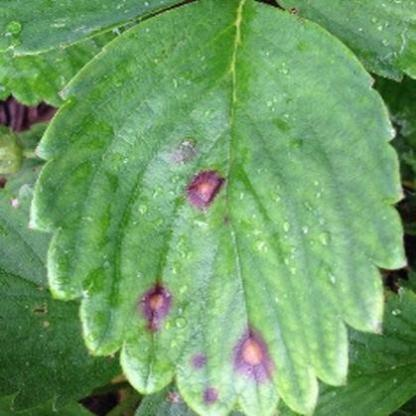Strawberry_Leaf_Spot: (29, 0, 410, 415)
